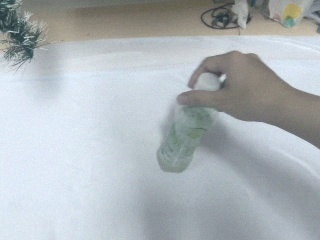bottle: (156, 104, 216, 174)
